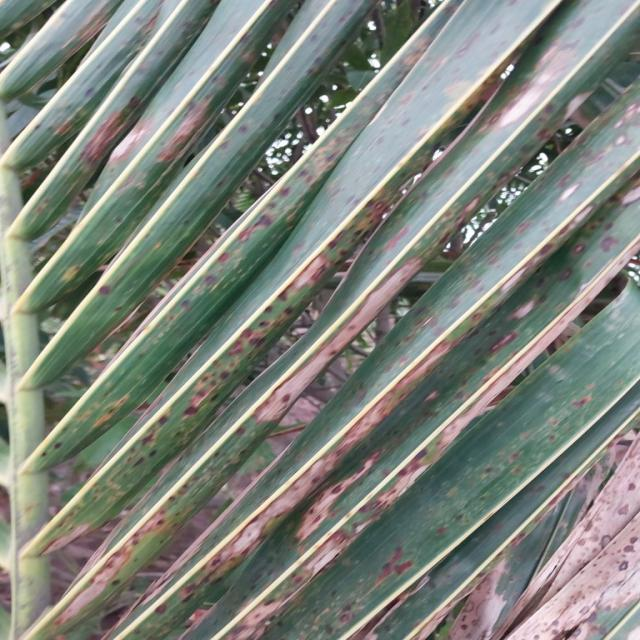gray leaf spot: (239, 219, 638, 638)
